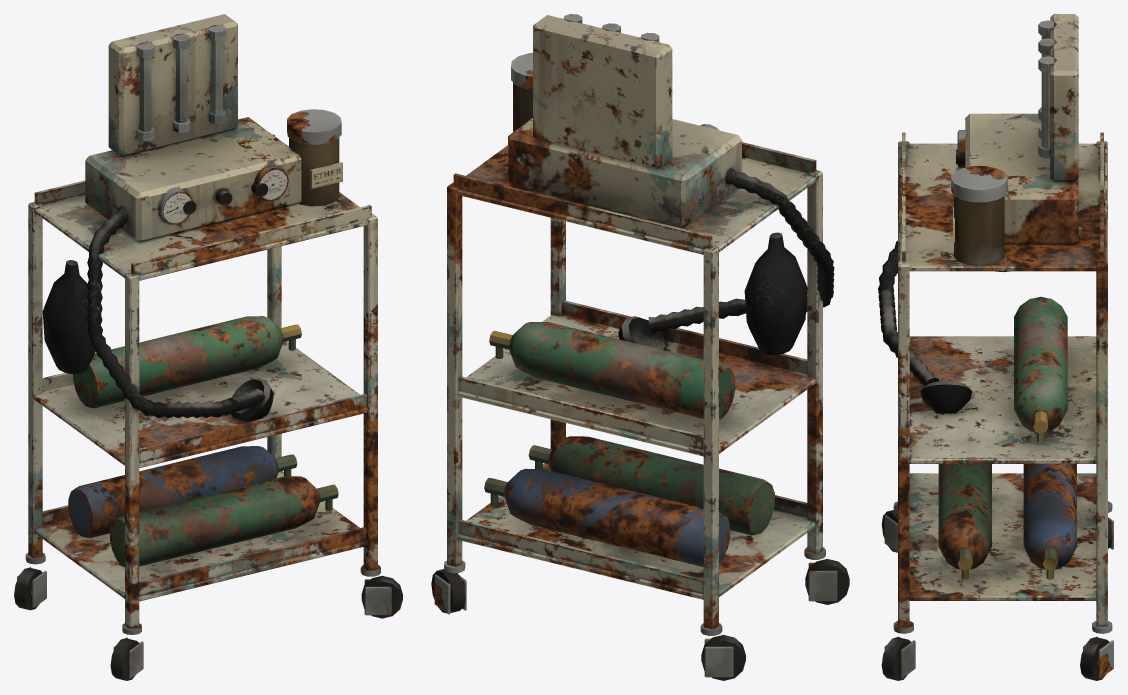
The model's file is AnesthesiaCart.fbx.
3 views of the same model, side by side, from view 1: azimuth 30°, elevation 25°; view 2: azimuth 150°, elevation 25°; view 3: azimuth 270°, elevation 25° (orthographic). The views are drawn at different scales.
Parts seen in each view (by area): view 1: AnesthesiaCart; view 2: AnesthesiaCart; view 3: AnesthesiaCart.
Part boxes in pixels (x1,y1,x2,y2): AnesthesiaCart: [14, 14, 402, 680]; AnesthesiaCart: [431, 14, 849, 680]; AnesthesiaCart: [878, 14, 1113, 680].
Size of the model in its own units: 2.27 by 4.01 by 1.5.
Materials: 1 (1 with a texture image).
